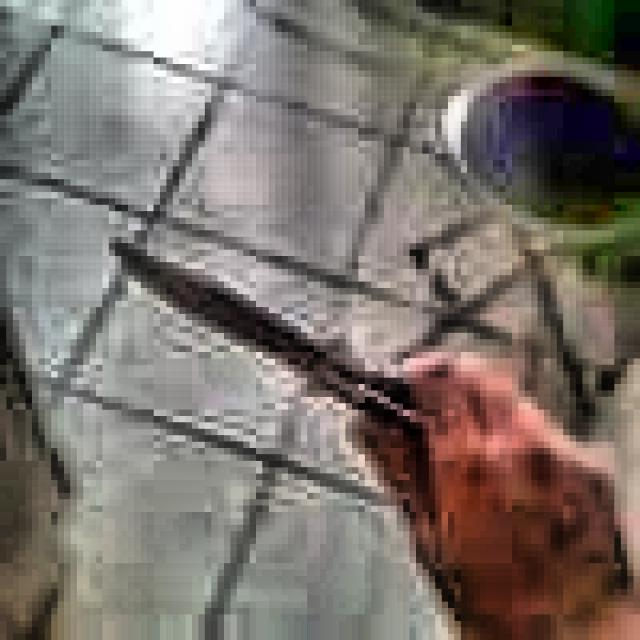knife: (114, 245, 432, 442)
